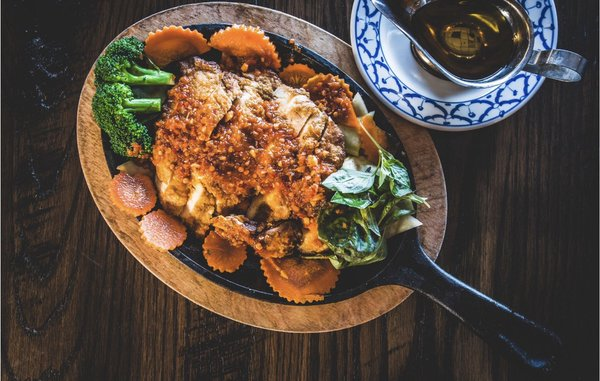curry: (90, 35, 177, 158)
salad: (162, 225, 562, 370), (325, 226, 563, 370)
sushi: (72, 10, 547, 332)
